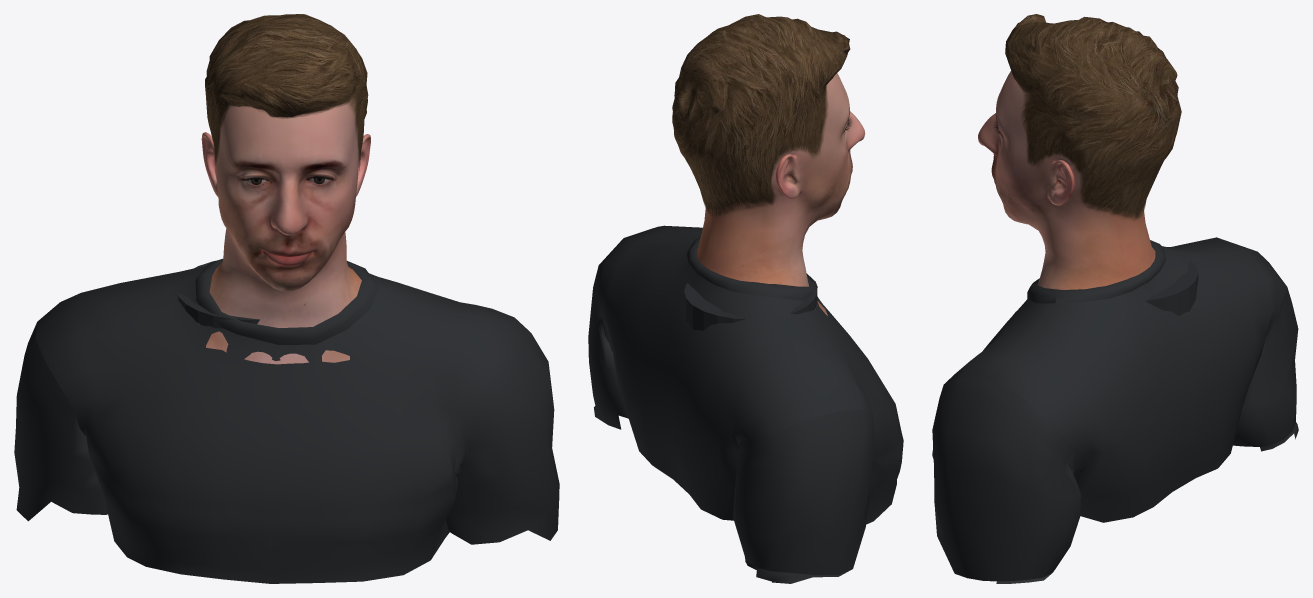
Rendered from head.glb.
3 renders of one model, left to right at view 1: azimuth 30°, elevation 25°; view 2: azimuth 150°, elevation 25°; view 3: azimuth 270°, elevation 25°, orthographic. The views are drawn at different scales.
Parts seen in each view (by area): view 1: avaturn_look_1, Head_Mesh, avaturn_hair_0, WetsuitCollar; view 2: avaturn_look_1, avaturn_hair_0, Head_Mesh, WetsuitCollar; view 3: avaturn_look_1, avaturn_hair_0, Head_Mesh, WetsuitCollar.
Boxes of the visible parts, x1=… form: avaturn_look_1: x1=14, y1=258, x2=559, y2=583; Head_Mesh: x1=198, y1=98, x2=370, y2=364; avaturn_hair_0: x1=205, y1=14, x2=368, y2=170; WetsuitCollar: x1=177, y1=260, x2=259, y2=328; avaturn_look_1: x1=588, y1=225, x2=903, y2=583; avaturn_hair_0: x1=672, y1=14, x2=850, y2=217; Head_Mesh: x1=696, y1=73, x2=865, y2=315; WetsuitCollar: x1=684, y1=277, x2=817, y2=330; avaturn_look_1: x1=932, y1=237, x2=1298, y2=583; avaturn_hair_0: x1=1005, y1=14, x2=1181, y2=220; Head_Mesh: x1=978, y1=71, x2=1155, y2=313; WetsuitCollar: x1=1145, y1=260, x2=1198, y2=315.
Bounding box in the file's own units: 0.4329 × 0.5187 × 0.3716.
7 materials, 5 textured.
